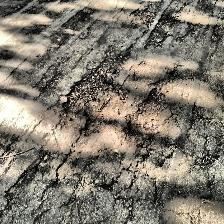pothole: (55, 72, 125, 136), (122, 86, 166, 146), (130, 5, 154, 28)
